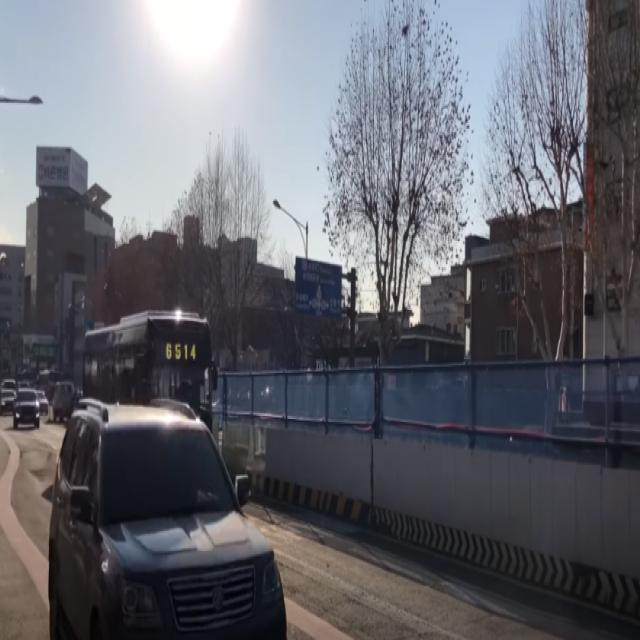bus-number: (166, 341, 197, 363)
